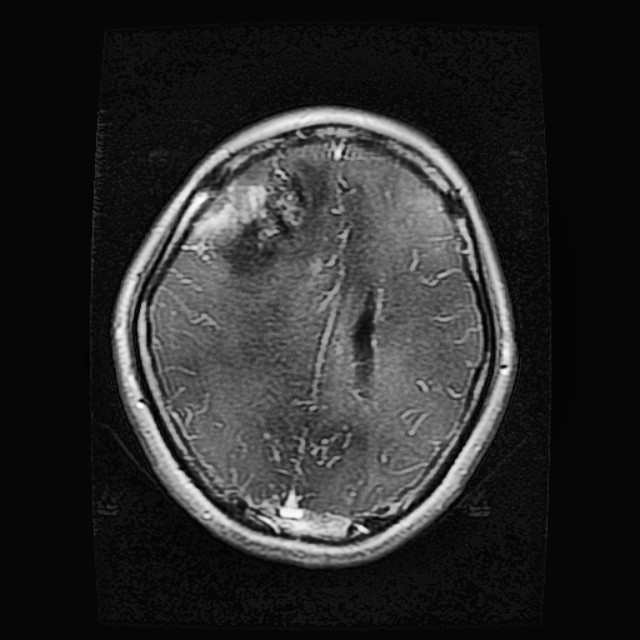Glioma: (184, 152, 318, 279)
